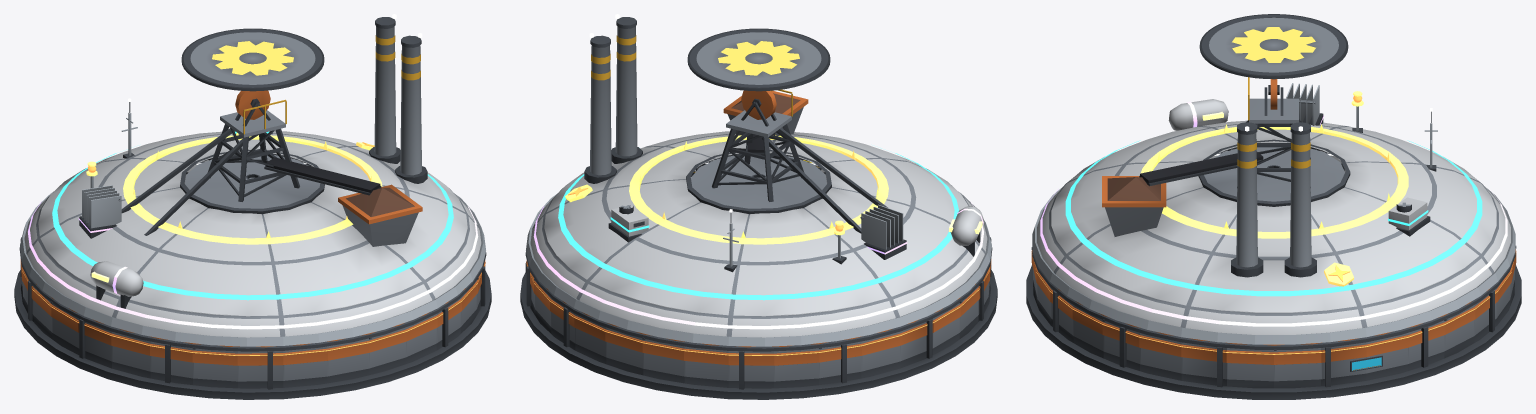
File: mine_m.glb
3 views of the same model, side by side, from view 1: azimuth 30°, elevation 25°; view 2: azimuth 150°, elevation 25°; view 3: azimuth 270°, elevation 25° (orthographic). The views are drawn at different scales.
Parts seen in each view (by area): view 1: Roof, Base, L5, L4, L3, Wall_21, Wall_20, Wall_22, Wall_19, Wall_23, Wall_18, Wall_24 (+9 smaller); view 2: Roof, Base, L5, L3, L4, Wall_10, Wall_11, Wall_09, Wall_12, Wall_08, Wall_13, Wall_07 (+8 smaller); view 3: Roof, Base, L3, L5, L4, Wall_00, Wall_31, Wall_30, Wall_29, Wall_01, Wall_02, Wall_28 (+10 smaller).
Boxes of the visible parts, x1,y1,x2,y2 form: Roof: [19, 14, 486, 351]; Base: [14, 270, 491, 399]; L5: [86, 132, 382, 244]; L4: [78, 185, 143, 308]; L3: [52, 131, 453, 300]; Wall_21: [237, 351, 283, 389]; Wall_20: [192, 347, 237, 388]; Wall_22: [283, 346, 327, 387]; Wall_19: [150, 341, 192, 384]; Wall_23: [327, 338, 369, 383]; Wall_18: [111, 332, 150, 378]; Wall_24: [368, 327, 406, 375]; Roof: [525, 14, 992, 351]; Base: [520, 270, 997, 399]; L5: [565, 135, 888, 264]; L3: [558, 148, 958, 300]; L4: [860, 204, 984, 259]; Wall_10: [728, 351, 774, 389]; Wall_11: [774, 348, 819, 388]; Wall_09: [684, 346, 728, 387]; Wall_12: [819, 341, 861, 384]; Wall_08: [642, 337, 684, 383]; Wall_13: [861, 332, 900, 378]; Wall_07: [605, 327, 643, 375]; Roof: [1032, 14, 1515, 349]; Base: [1026, 264, 1521, 399]; L3: [1065, 140, 1482, 296]; L5: [1140, 91, 1408, 286]; L4: [1168, 83, 1323, 130]; Wall_00: [1274, 348, 1321, 388]; Wall_31: [1226, 348, 1273, 388]; Wall_30: [1181, 342, 1226, 387]; Wall_29: [1139, 333, 1181, 380]; Wall_01: [1321, 342, 1366, 387]; Wall_02: [1366, 333, 1408, 380]; Wall_28: [1102, 319, 1139, 370].
Size of the model in its own units: 14.75 by 8.23 by 14.75.
